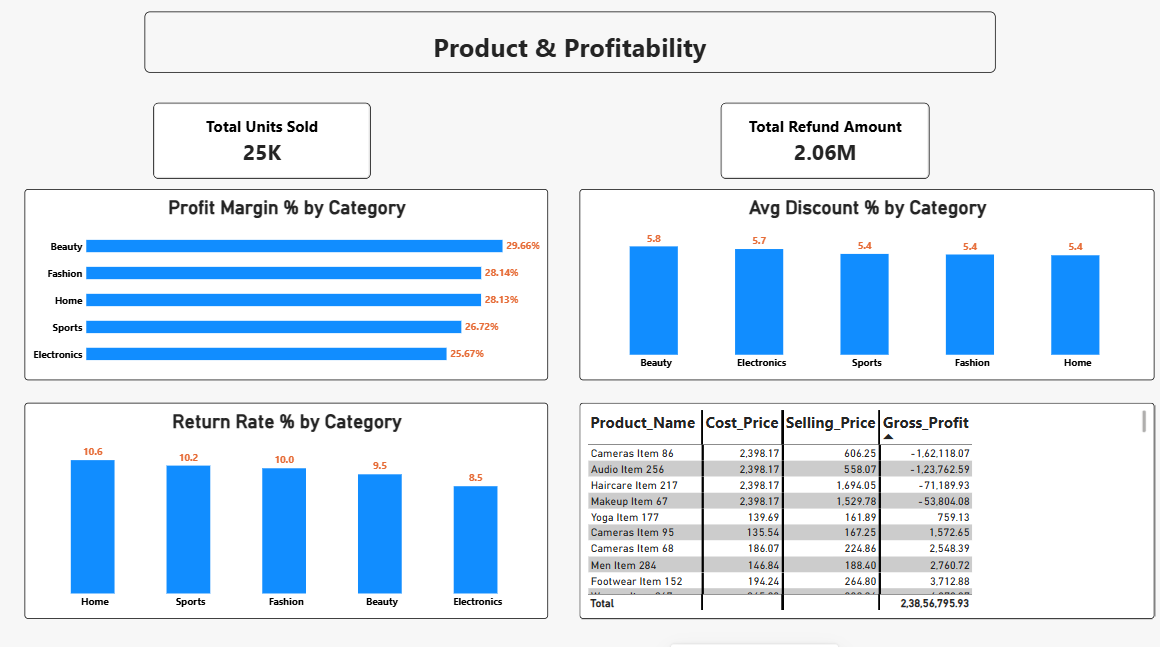

What the dashboard file says about the page in this screenshot:
{"tool":"powerbi","page":{"name":"Product & Profitability","canvas":[2560,1440],"ordinal":3},"visuals":[{"type":"clusteredBarChart","fields":{"Category":["Dim_Products.Category"],"Y":["Measures (3).Profit Margin %"]},"box":[60.4,417.2,1067.6,447.3],"z":0},{"type":"clusteredColumnChart","fields":{"Category":["Dim_Products.Category"],"Y":["Measures (3).Avg Discount %"]},"box":[1278.9,417.2,1133.5,447.3],"z":1000},{"type":"columnChart","fields":{"Category":["Dim_Products.Category"],"Y":["Measures (3).Return Rate %"]},"box":[60.4,886.5,1067.6,513.2],"z":2000},{"type":"tableEx","fields":{"Values":["Dim_Products.Product_Name","Dim_Products.Cost_Price","Dim_Products.Selling_Price","Measures (3).Gross_Profit"]},"box":[1278.9,886.5,1133.5,516],"z":3000},{"type":"cardVisual","fields":{"Data":["Measures (3).Total Units Sold"]},"box":[343.1,227.8,477.5,167.4],"z":4000},{"type":"cardVisual","fields":{"Data":["Measures (3).Total Refund Amount"]},"box":[1589,227.8,458.3,167.4],"z":5000},{"type":"textbox","box":[323.8,27.4,1869,134.5],"z":6000}]}

Visuals, with their boxes in screenshot pixels (x1, y1, x2, y2), scaled from the page's 2560x1440 canvas onto the 1160x647 screenshot:
clusteredBarChart - Dim_Products.Category x Measures (3).Profit Margin %: 27:187:511:388
clusteredColumnChart - Dim_Products.Category x Measures (3).Avg Discount %: 580:187:1093:388
columnChart - Dim_Products.Category x Measures (3).Return Rate %: 27:398:511:629
tableEx - Dim_Products.Product_Name x Dim_Products.Cost_Price: 580:398:1093:630
cardVisual - Measures (3).Total Units Sold: 155:102:372:178
cardVisual - Measures (3).Total Refund Amount: 720:102:928:178
textbox: 147:12:994:73
